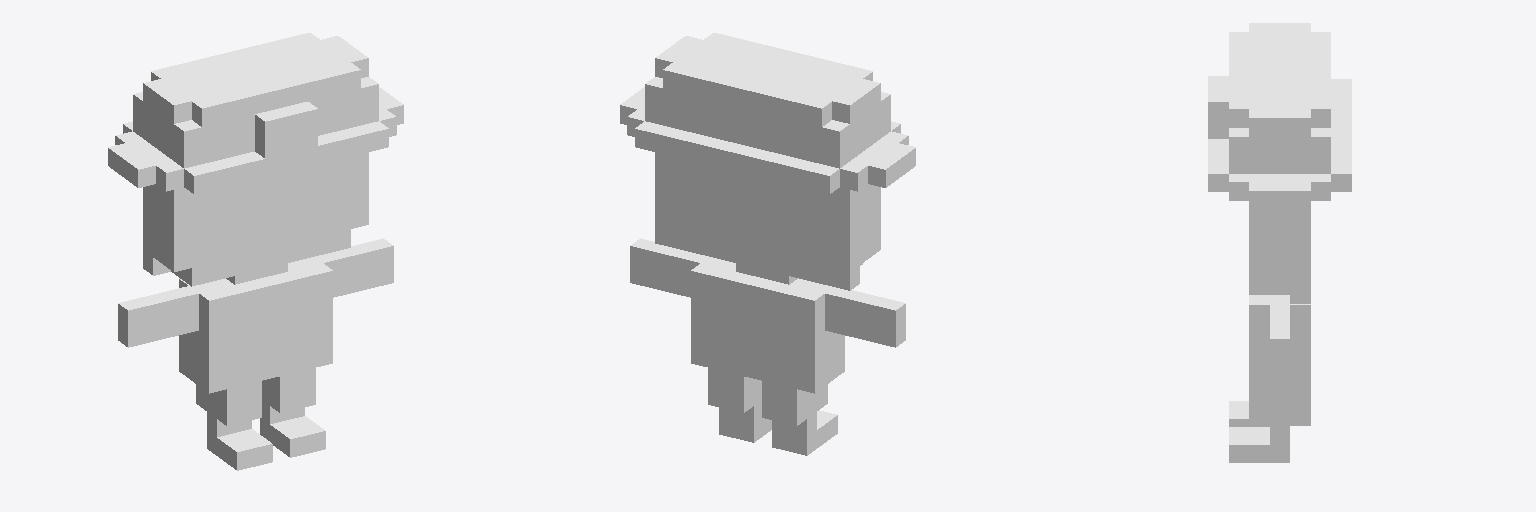
File: guia.obj
3 renders of one model, left to right at view 1: azimuth 30°, elevation 25°; view 2: azimuth 150°, elevation 25°; view 3: azimuth 270°, elevation 25°, orthographic.
Parts seen in each view (by area): view 1: object 1; view 2: object 1; view 3: object 1.
Part boxes in pixels (x1,y1,x2,y2): object 1: (108, 33, 403, 470); object 1: (620, 33, 915, 455); object 1: (1208, 23, 1351, 462).
Size of the model in its own units: 1.5 by 2 by 0.7.